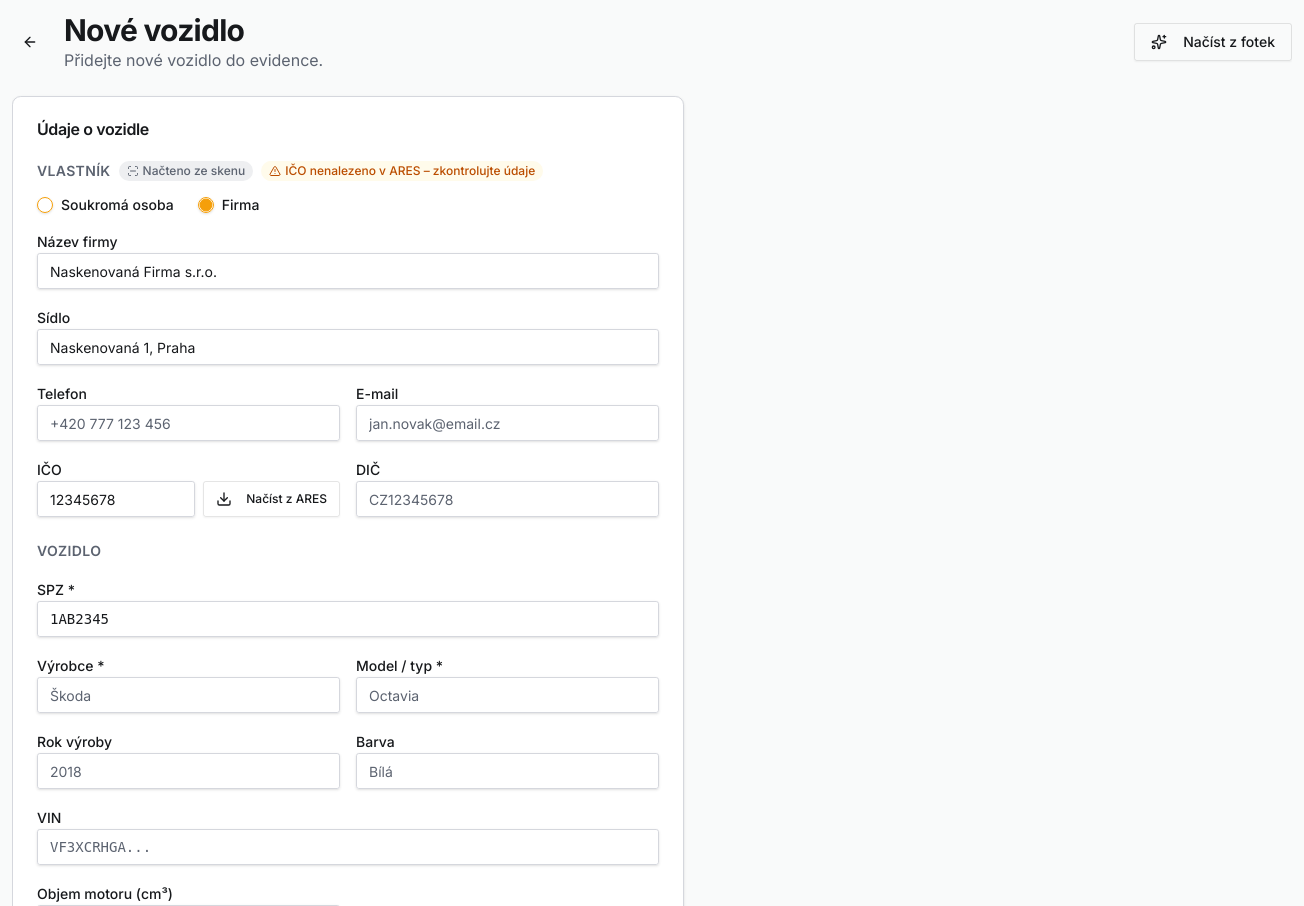
Scenario: New vehicle ARES verification warning after a scan › clears the warning after re-running ARES successfully via the 'Načíst z ARES' button
Expected: the text "IČO nenalezeno v ARES – zkontrolujte údaje" is shown, [261,161,543,181]
Click the button "Načíst z ARES" at [272, 499], box [203,481,340,517]
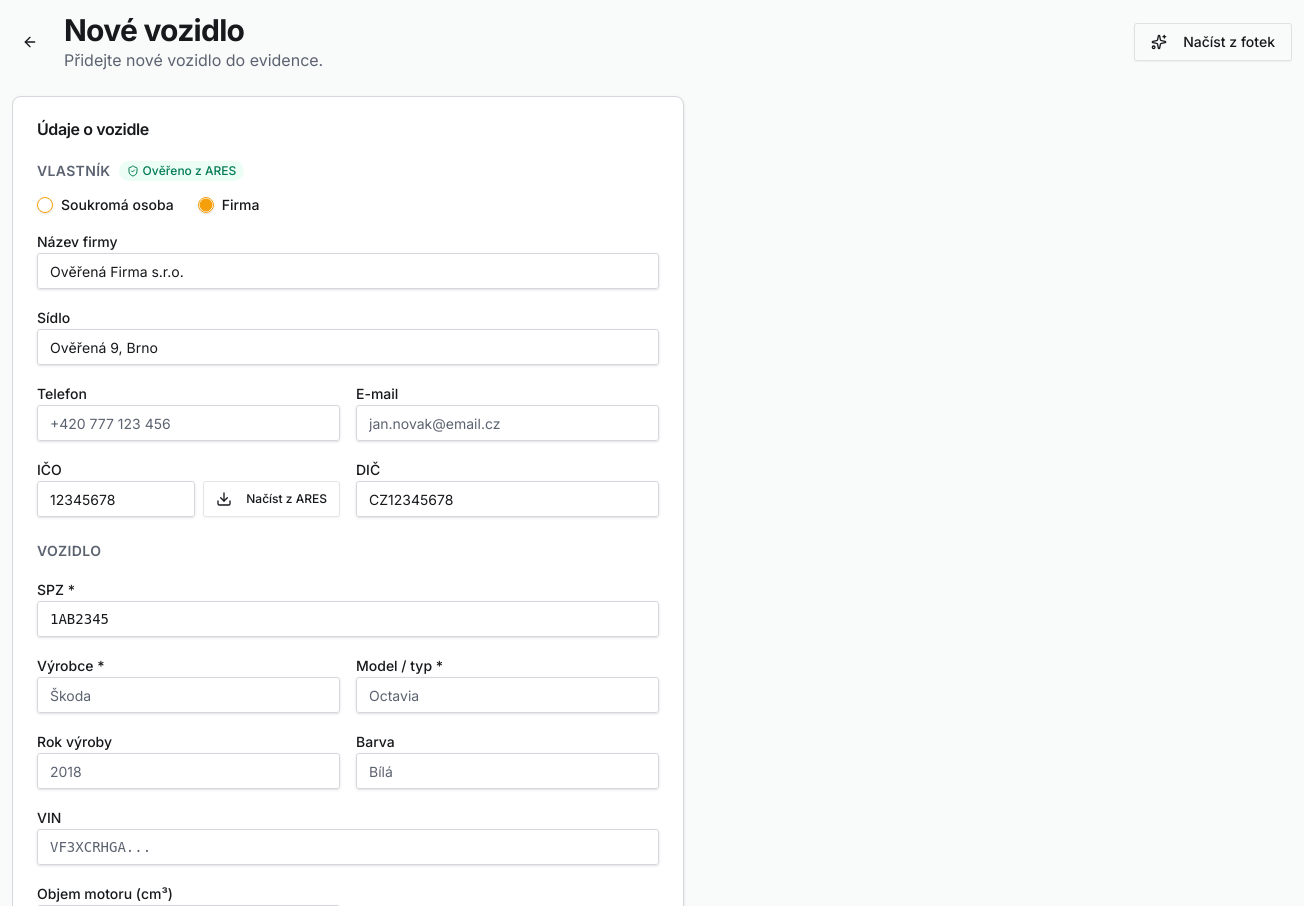
Expected: the text "Ověřeno z ARES" is shown, [119,161,244,181]
Expected: the text "IČO nenalezeno v ARES – zkontrolujte údaje" is gone
